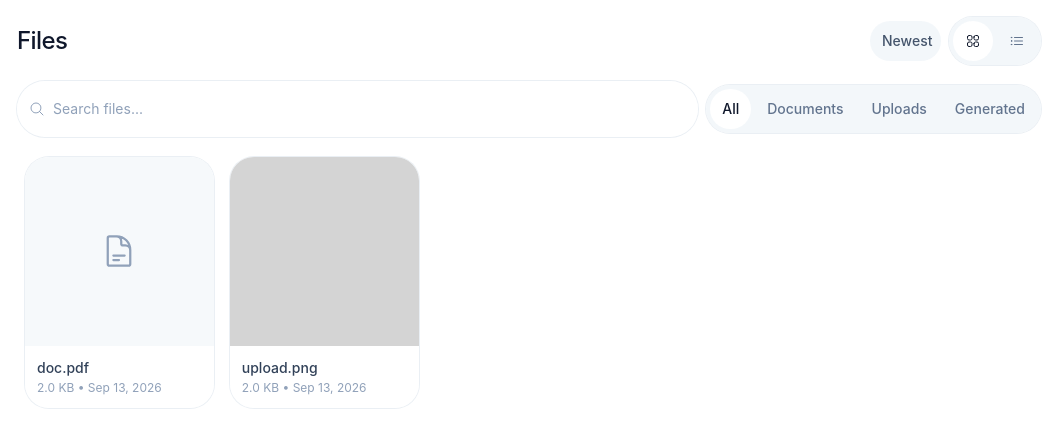
Test case: the kind filter narrows the list to documents only
Expected: the text "doc.pdf" is shown, [37,359,89,376]
Click the radio button labelled "Documents": (805, 109) [755,89,856,129]
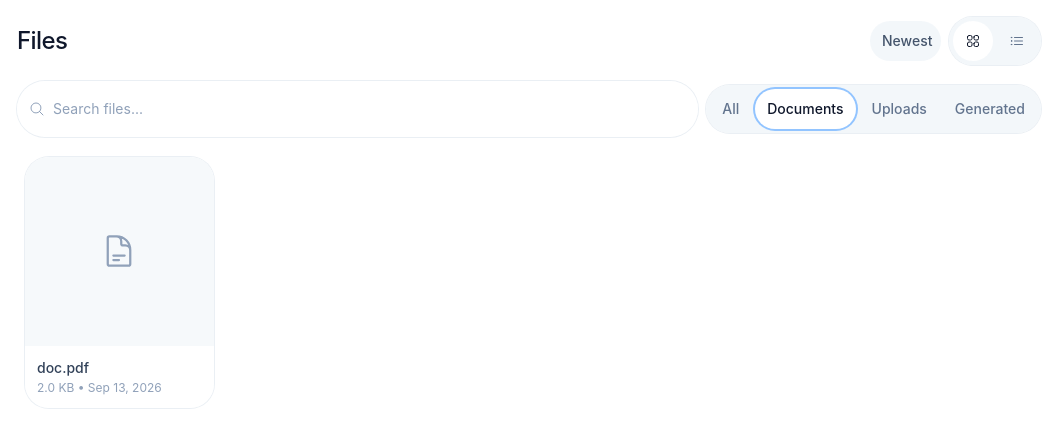
Expected: the text "doc.pdf" is shown, [37,359,89,376]
Result: the text "upload.png" is gone
